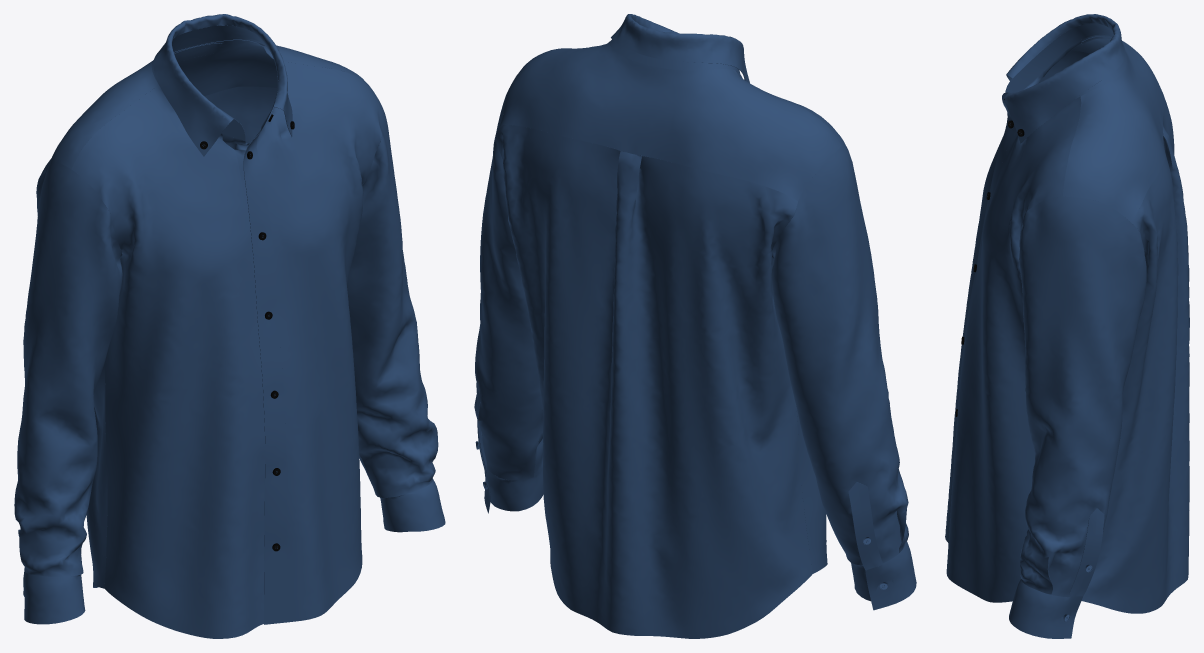
The model's file is Shirt3.glb.
The picture shows the model from 3 angles, left to right: view 1: azimuth 30°, elevation 25°; view 2: azimuth 150°, elevation 25°; view 3: azimuth 270°, elevation 25°; orthographic projection. The views are drawn at different scales.
Visible parts, largest first — view 1: Shirt; view 2: Shirt; view 3: Shirt.
Boxes of the visible parts, <box> form: Shirt: <box>14,14,445,638</box>; Shirt: <box>474,14,916,638</box>; Shirt: <box>945,14,1189,638</box>.
Bounding box in the file's own units: 0.6076 × 0.7847 × 0.3177.
